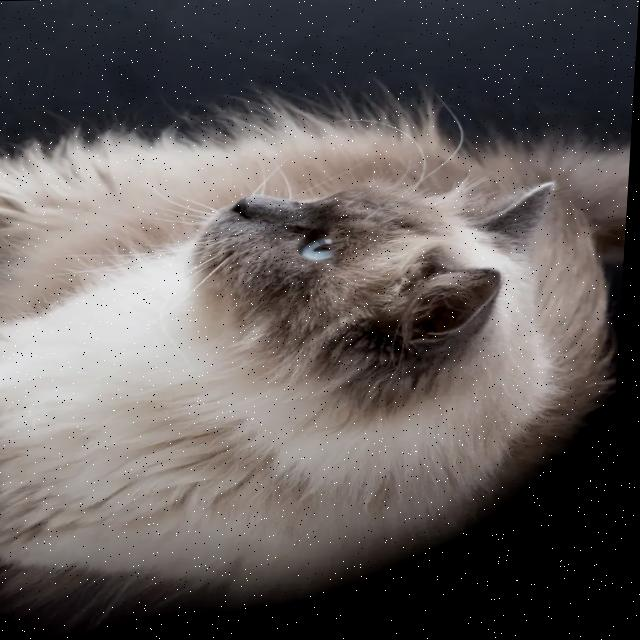Neva Masquerade: (0, 77, 636, 624)
